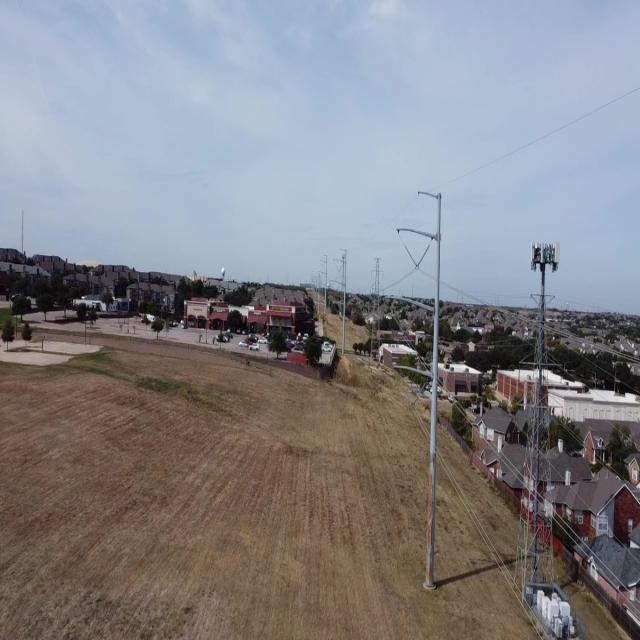杆塔: (509, 288, 564, 616), (368, 255, 385, 368)
正常绝缘子: (399, 234, 423, 277), (410, 240, 436, 279)
